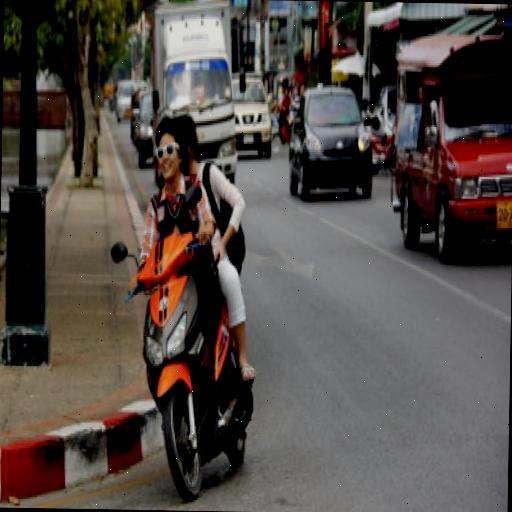no helmet: (107, 104, 238, 498)
